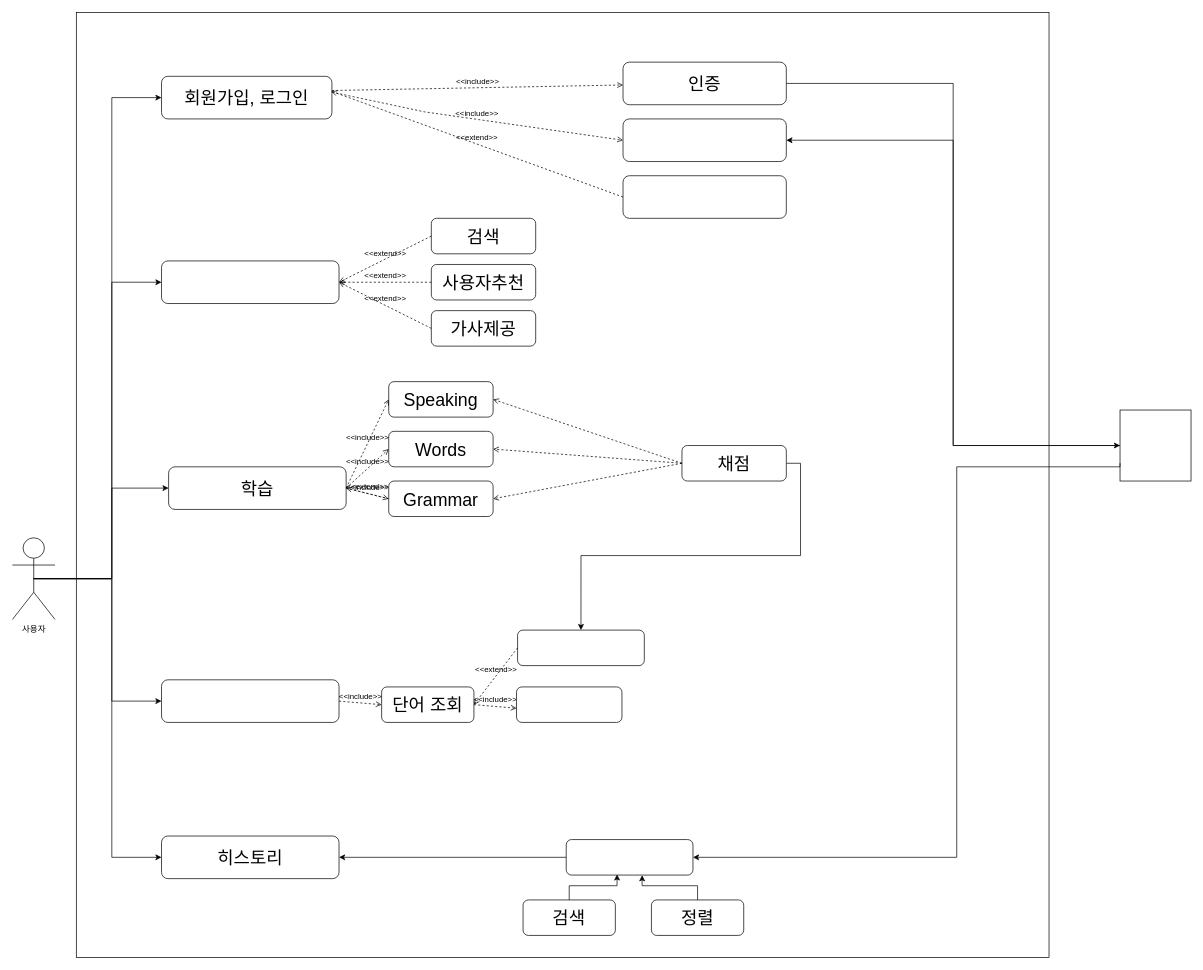
The diagram is 1203 pixels wide and 970 high, and some of its shapes have lost their labels. Here are the shapes that lost their labels. From the top down, the box of each, then its label:
(622, 118, 786, 162): 인증 실패
(622, 175, 786, 218): 토큰 재발급
(161, 260, 339, 304): 음악 스트리밍
(1119, 409, 1191, 481): DB
(517, 629, 644, 666): 틀린 단어 조회
(161, 679, 339, 722): 단어장
(516, 686, 622, 722): 단어 CRUD
(566, 839, 693, 875): 학습 결과 로그
